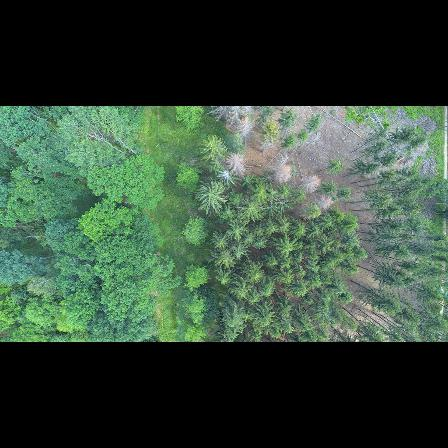Dead: (228, 150, 250, 174), (269, 165, 294, 185), (298, 174, 322, 192), (239, 117, 257, 138), (217, 166, 233, 183), (315, 197, 334, 208)
